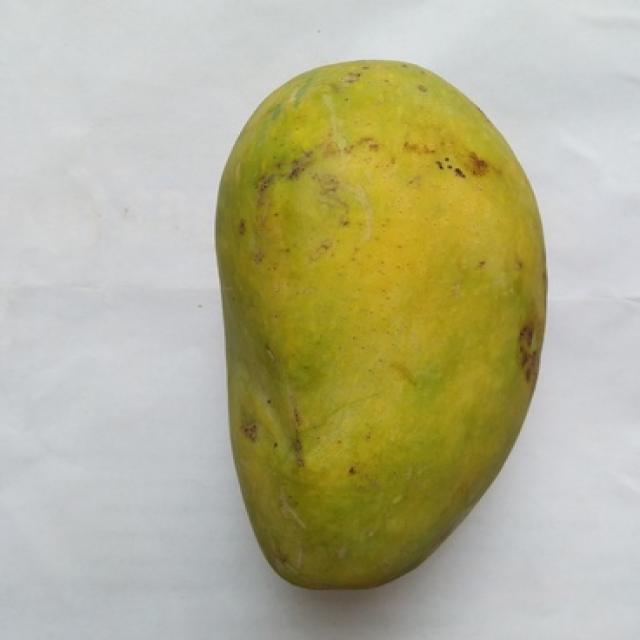Mango: (216, 61, 546, 587)
